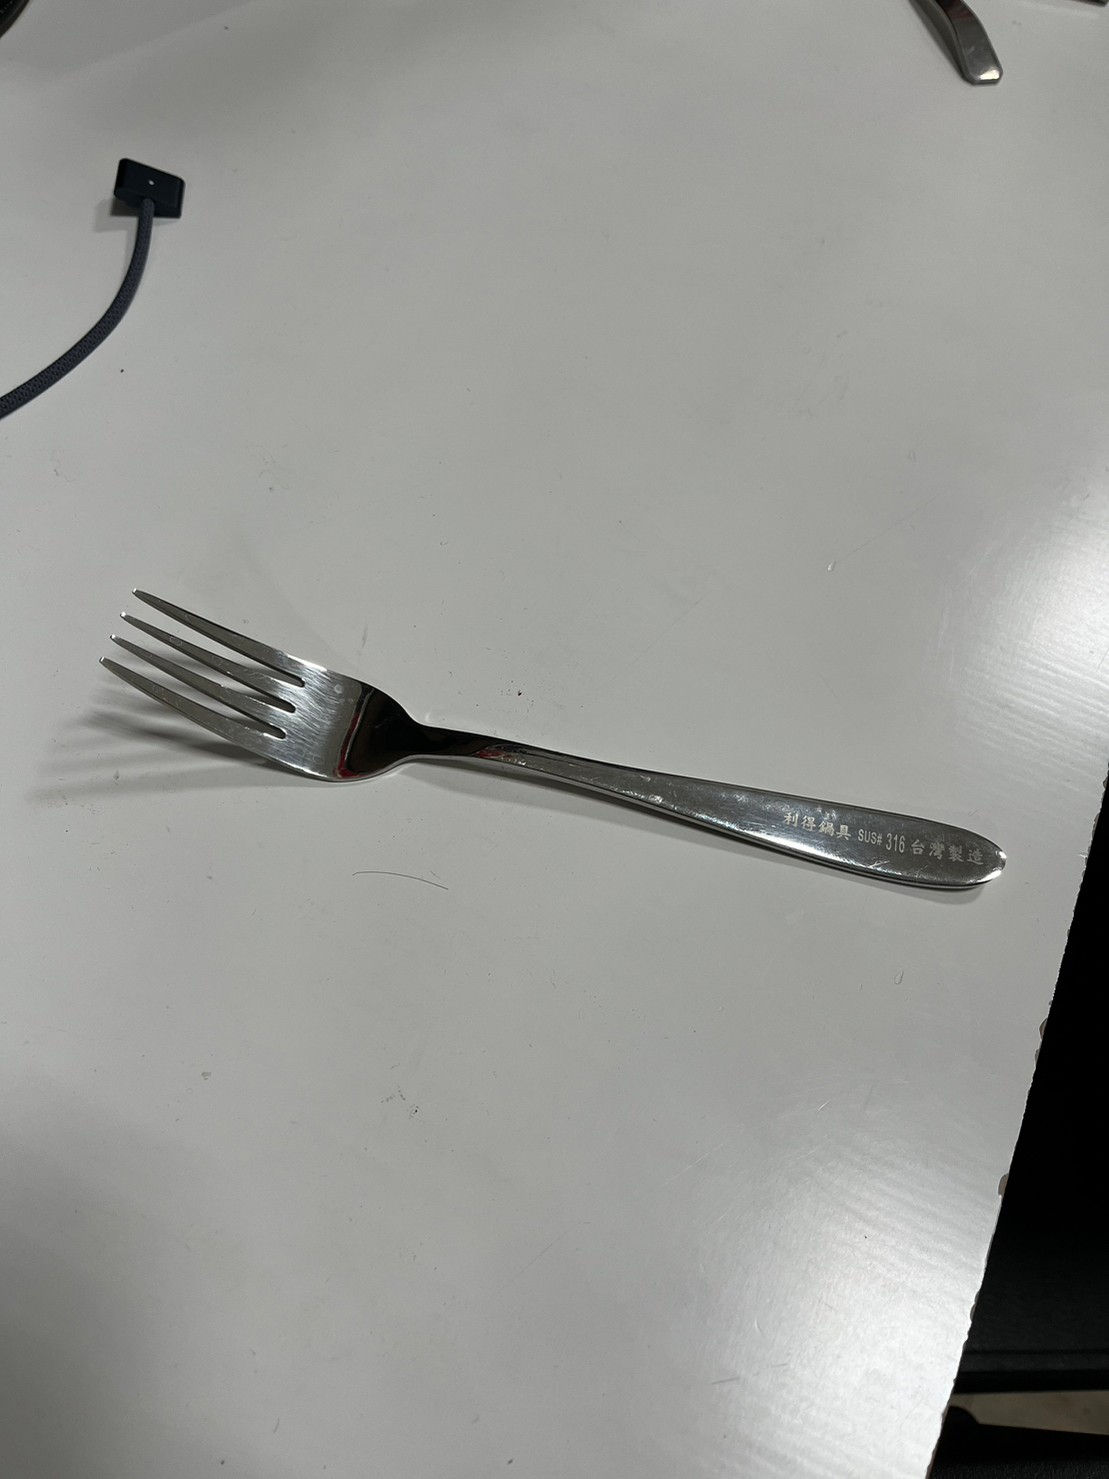fork: (94, 571, 1027, 905)
